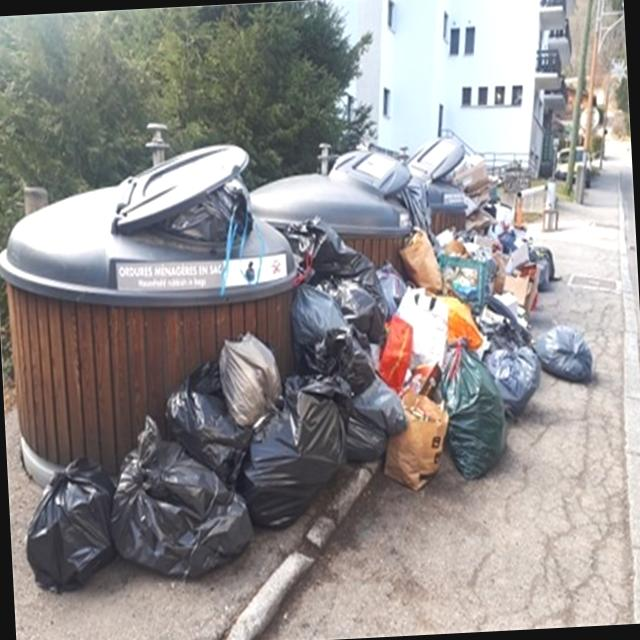garbage: (0, 141, 619, 596)
